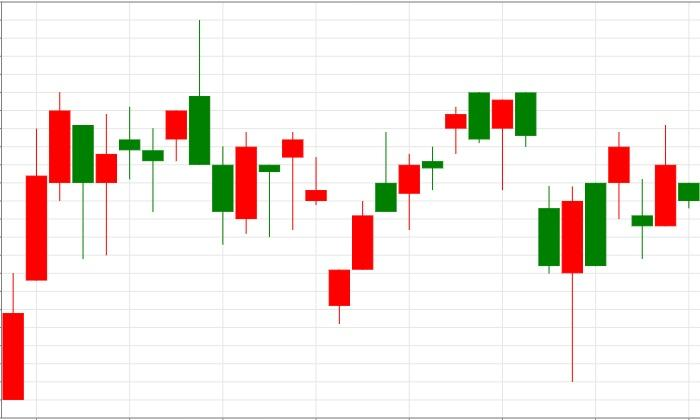hanging_man_fall: (328, 92, 513, 324)
